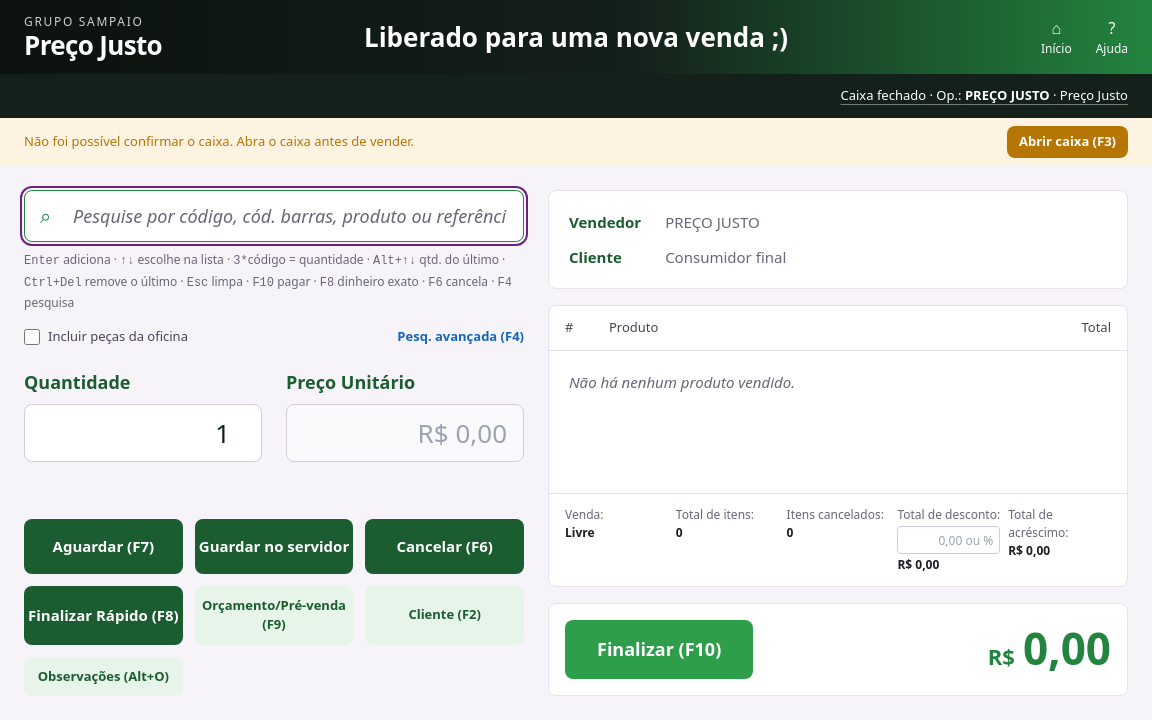
H-caixa-seguranca-M01 — o turno fechado em outra máquina › a recusa "caixa fechado" relê a gaveta, abre o caixa e mantém o carrinho
Type "7898215151784" into the field labelled "Pesquise por código, cód. barras, produto ou referência".
click(274, 216); type("7898215151784")  # box 24,190 -> 524,242
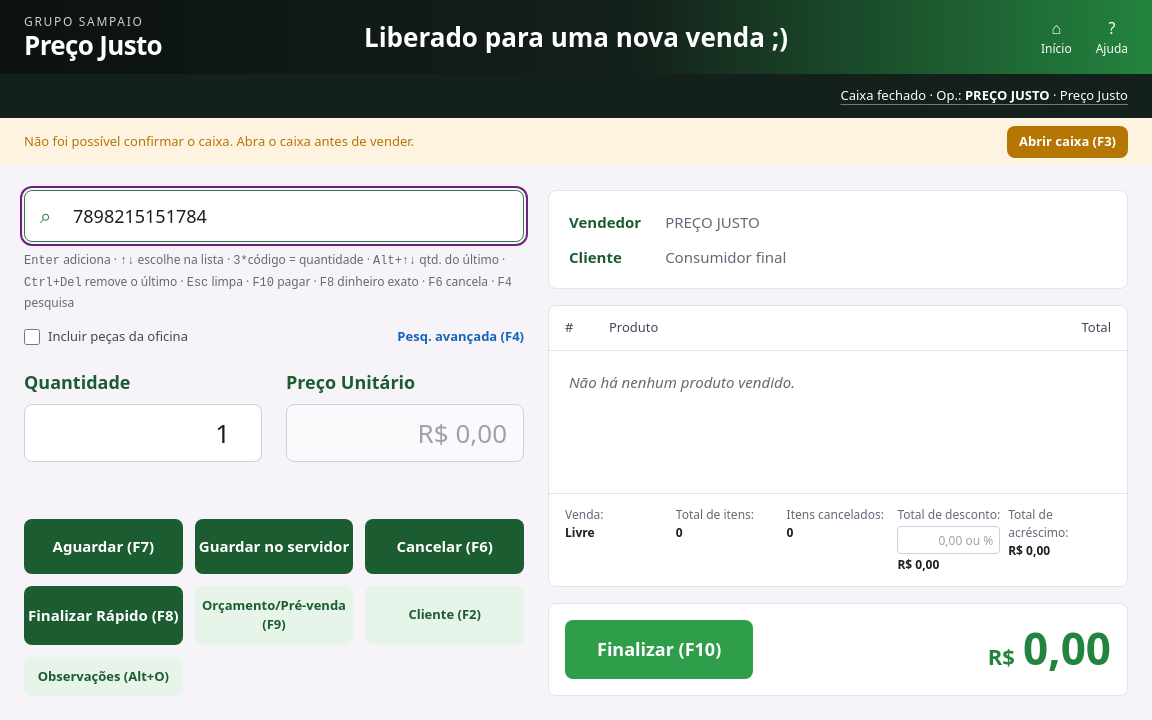
Press Enter in the field named "Pesquise por código", box 24,190 -> 524,242
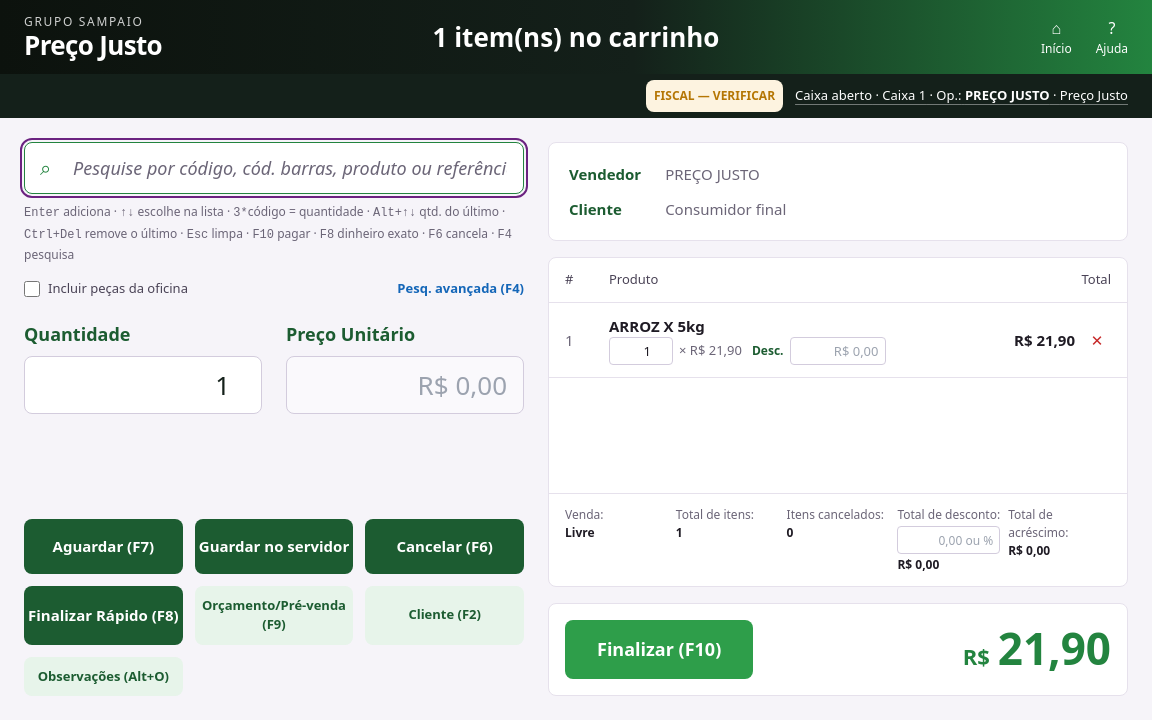
Press F8 in the field labelled "Pesquise por código, cód. barras, produto ou referência", box 24,142 -> 524,194
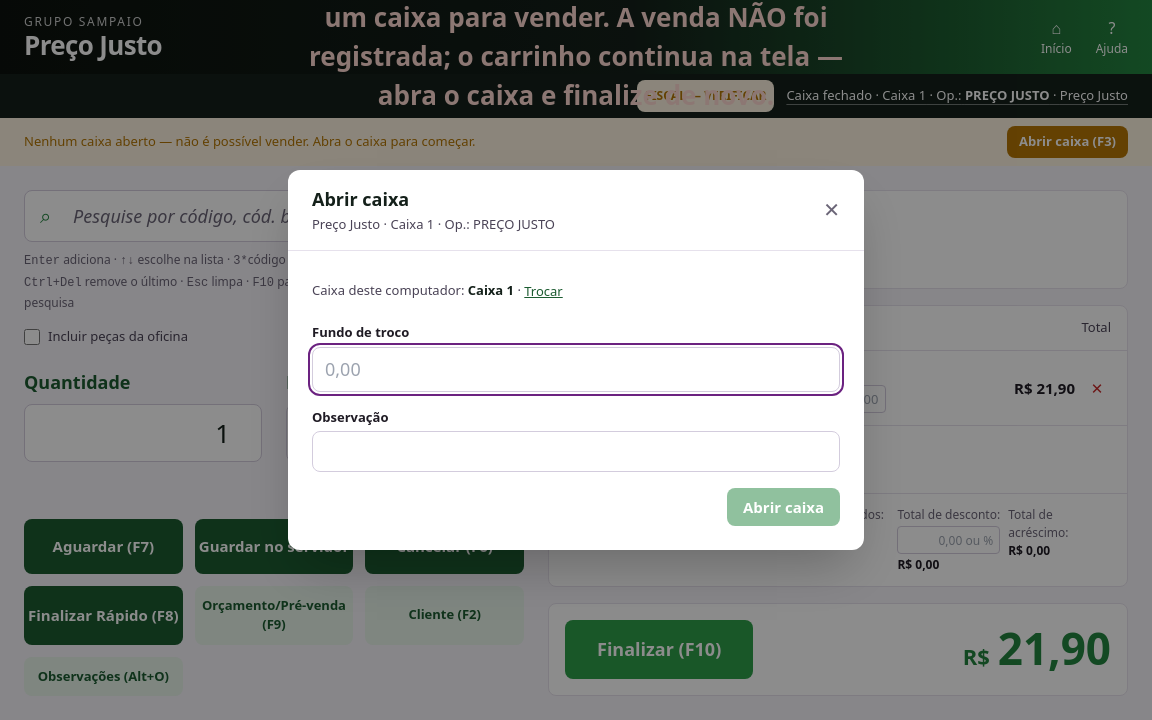
Expected: the dialog named "Caixa · Preço Justo" is shown
